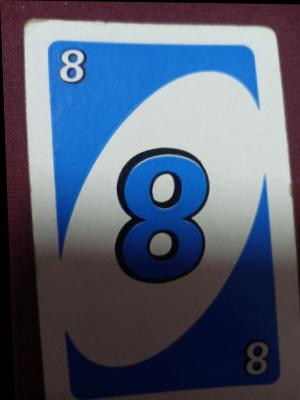blue: (38, 40, 282, 384)
num_8: (235, 338, 272, 381), (55, 45, 89, 88)
